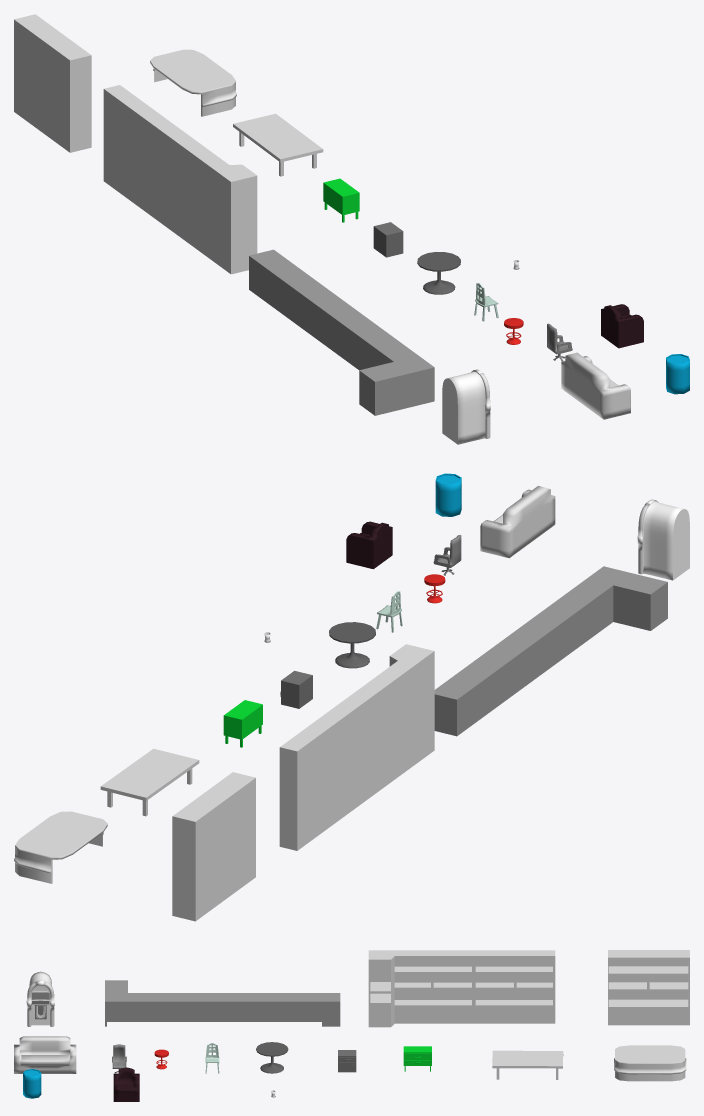
File: bar_objec.fbx
The picture shows the model from 3 angles, top to bottom: view 1: azimuth 30°, elevation 25°; view 2: azimuth 150°, elevation 25°; view 3: azimuth 270°, elevation 25°; orthographic projection. The views are drawn at different scales.
Visible parts, largest first — view 1: Big bookcase, barCounter, bookcase, boss table, JunBox.001, couch, table, armchair, bar table, big table, wooden barrel, small table; view 2: Big bookcase, barCounter, bookcase, boss table, JunBox.001, couch, table, armchair, bar table, big table, wooden barrel, small table; view 3: Big bookcase, barCounter, bookcase, boss table, couch, JunBox.001, table, armchair, bar table, big table, wooden barrel, small table (+2 smaller).
Part boxes in pixels (x1,y1,x2,y2): Big bookcase: [103, 85, 257, 274]; barCounter: [249, 249, 434, 415]; bookcase: [14, 14, 91, 152]; boss table: [150, 49, 236, 116]; JunBox.001: [442, 369, 490, 444]; couch: [561, 352, 630, 419]; table: [233, 113, 323, 176]; armchair: [601, 304, 643, 348]; bar table: [417, 252, 460, 294]; big table: [323, 178, 359, 222]; wooden barrel: [666, 354, 689, 394]; small table: [373, 222, 403, 257]; Big bookcase: [279, 644, 434, 850]; barCounter: [434, 566, 667, 736]; bookcase: [172, 772, 255, 921]; boss table: [14, 811, 107, 883]; JunBox.001: [637, 499, 689, 580]; couch: [480, 486, 555, 558]; table: [100, 748, 199, 816]; armchair: [346, 521, 392, 569]; bar table: [329, 622, 375, 668]; big table: [223, 700, 262, 747]; wooden barrel: [435, 473, 461, 516]; small table: [280, 670, 312, 708]; Big bookcase: [368, 950, 555, 1027]; barCounter: [105, 980, 340, 1026]; bookcase: [608, 950, 689, 1025]; boss table: [614, 1045, 686, 1081]; couch: [14, 1036, 76, 1073]; JunBox.001: [26, 971, 54, 1026]; table: [492, 1050, 563, 1079]; armchair: [113, 1067, 139, 1101]; bar table: [256, 1042, 288, 1073]; big table: [403, 1046, 431, 1071]; wooden barrel: [23, 1069, 41, 1098]; small table: [338, 1050, 356, 1072].
Bounding box in the file's own units: 3248 × 366 × 1121.
